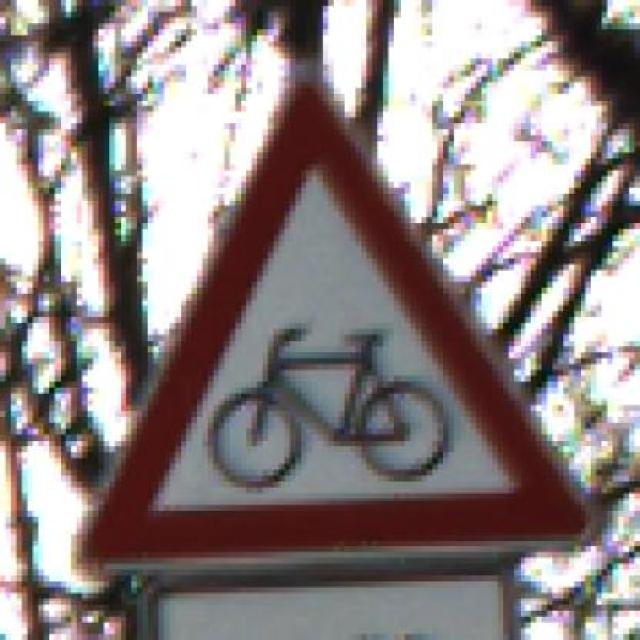CYCLE ROUTE AHEAD WARNING: (66, 47, 596, 570)
